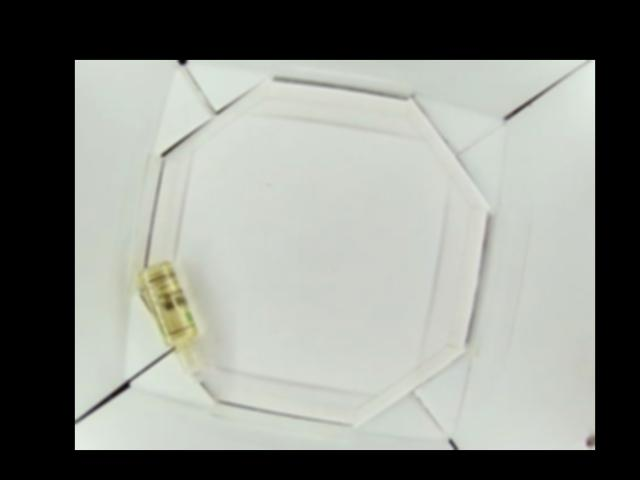Bottle: (137, 263, 208, 385)
